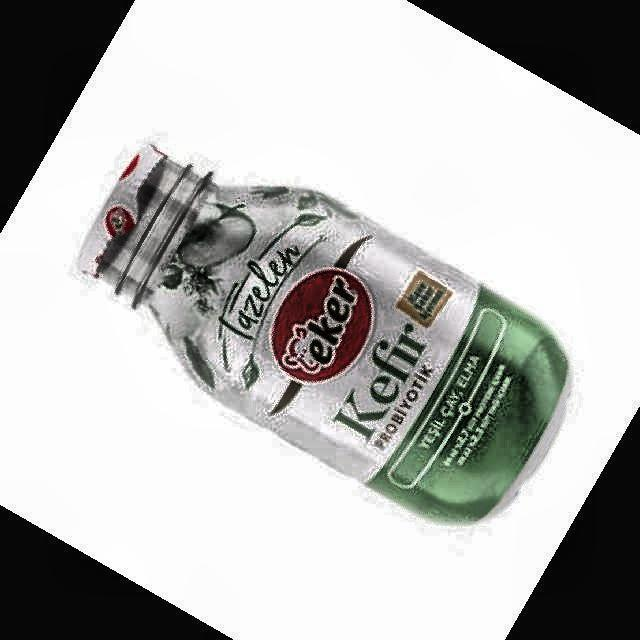plastic: (80, 145, 570, 523)
